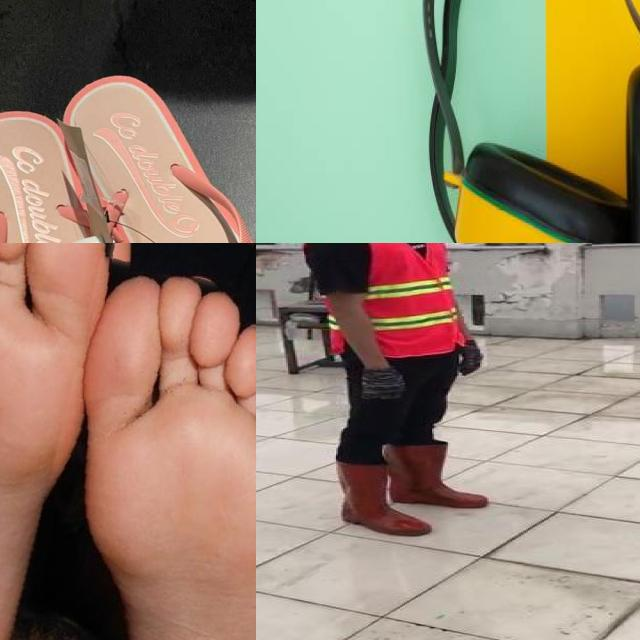Barefoots: (68, 298, 256, 640), (0, 243, 125, 640)
Ear-protection: (415, 0, 640, 243)
Sandals: (0, 43, 256, 243)
boots: (329, 456, 434, 537), (386, 437, 466, 510)
hand_glove: (359, 367, 405, 399)
person: (298, 243, 494, 543)
vest: (302, 243, 460, 356)
